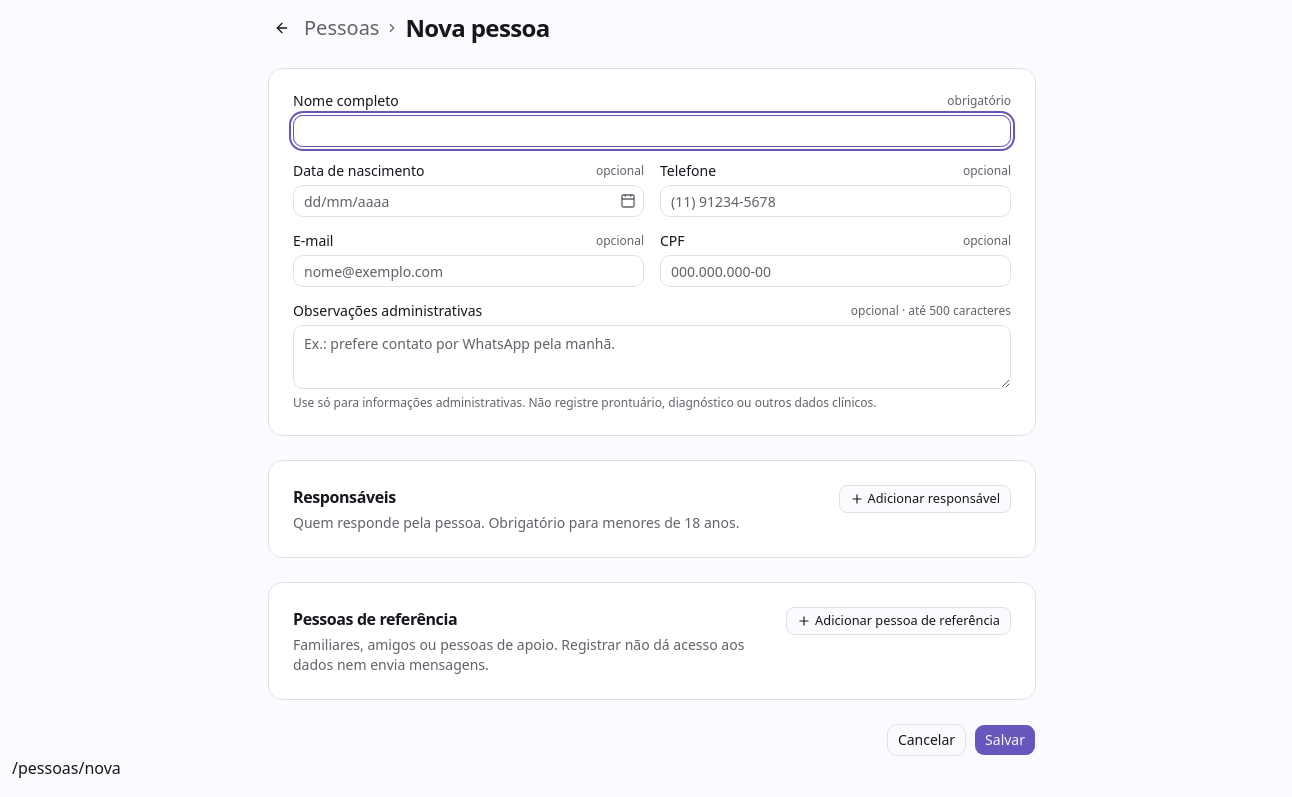
Scenario: ClientFormPage › local validation › keeps what was typed while reporting field errors in pt-BR
Type "Maria Souza" into the field labelled "Nome completo" at (652, 131), box [293,115,1011,147]
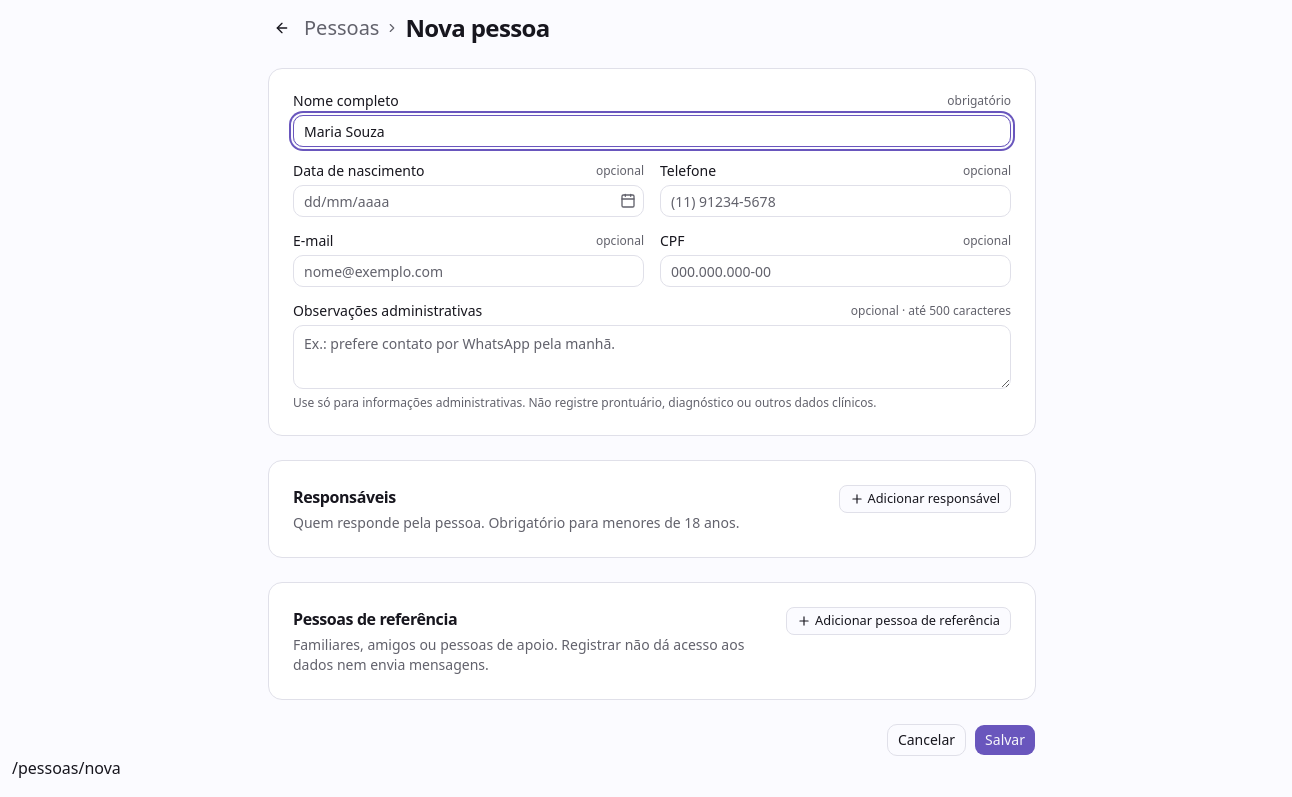
Type "telefone" into the field labelled "Telefone" at (836, 201), box [660,185,1011,217]
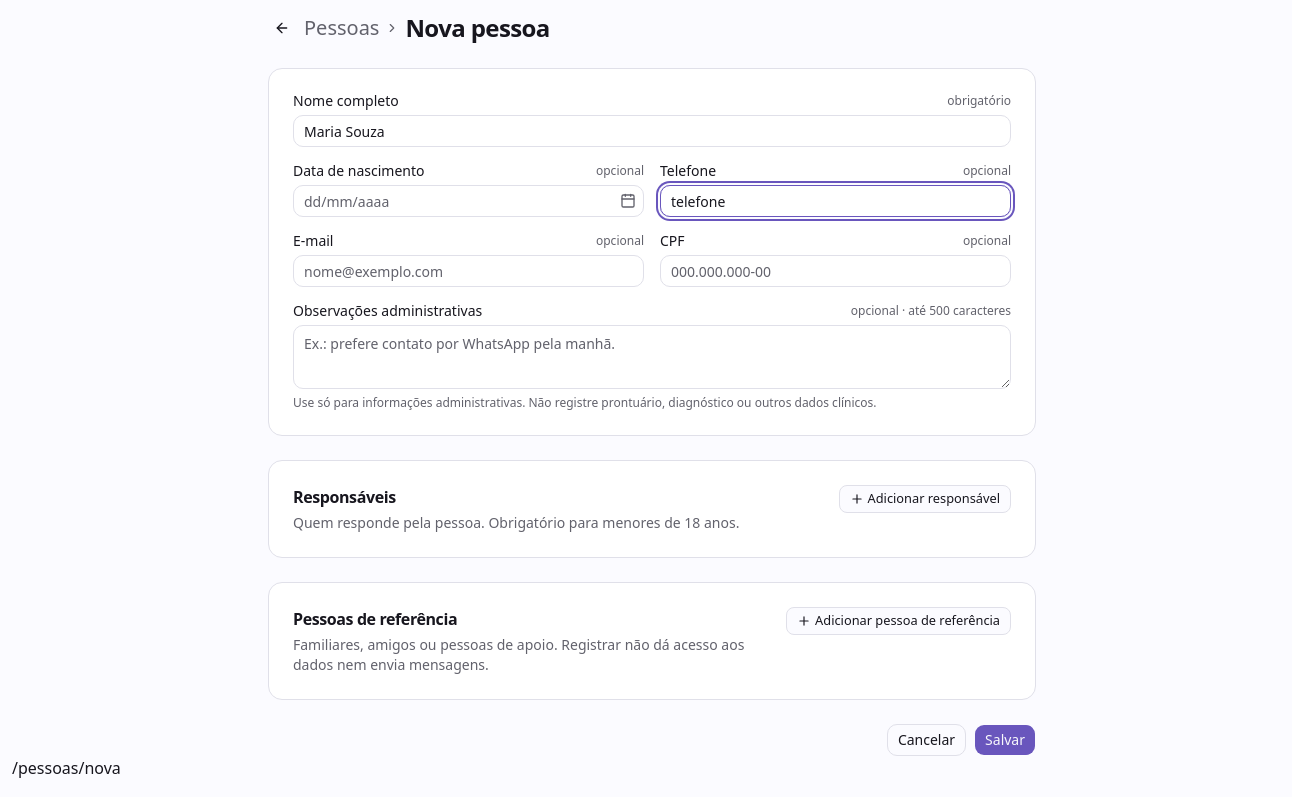
Type "maria@example" into the field labelled "E-mail" at (468, 271), box [293,255,644,287]
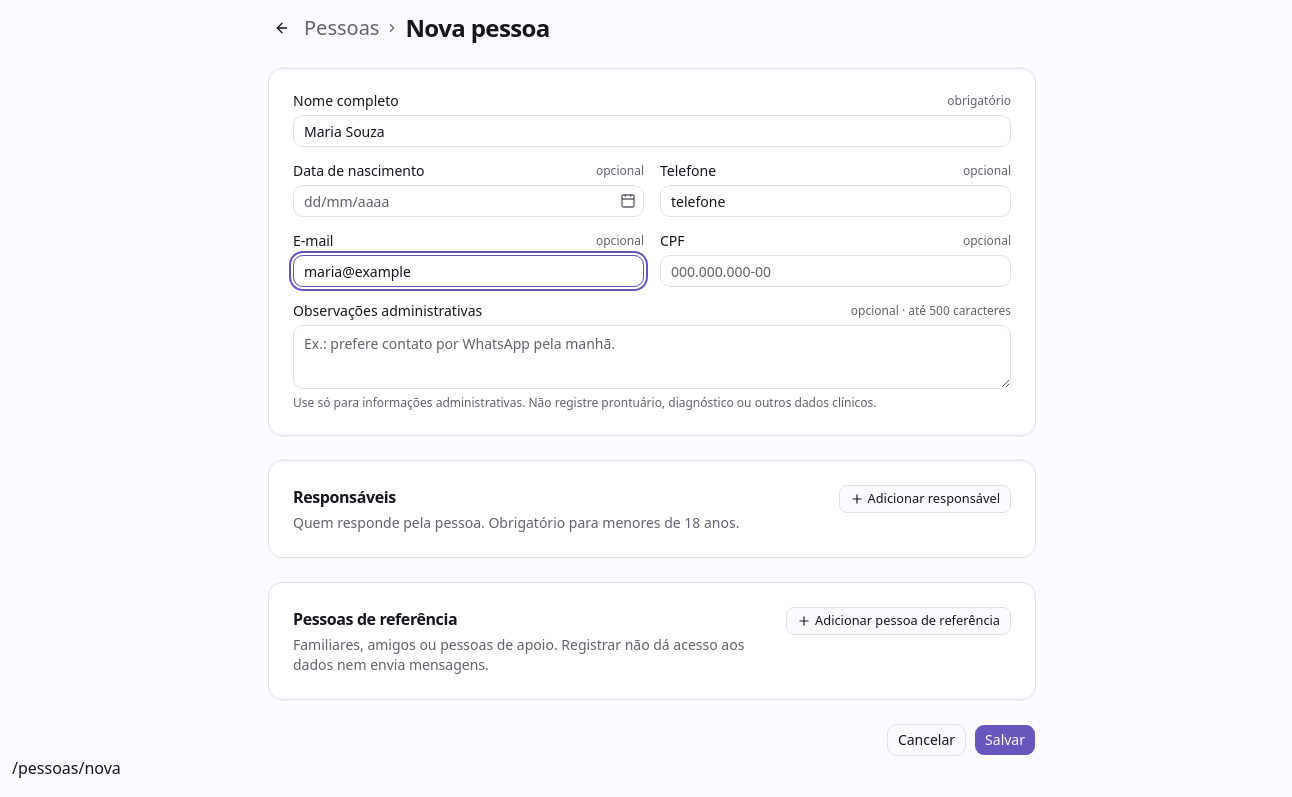
Type "52998224724" into the field labelled "CPF" at (836, 271), box [660,255,1011,287]
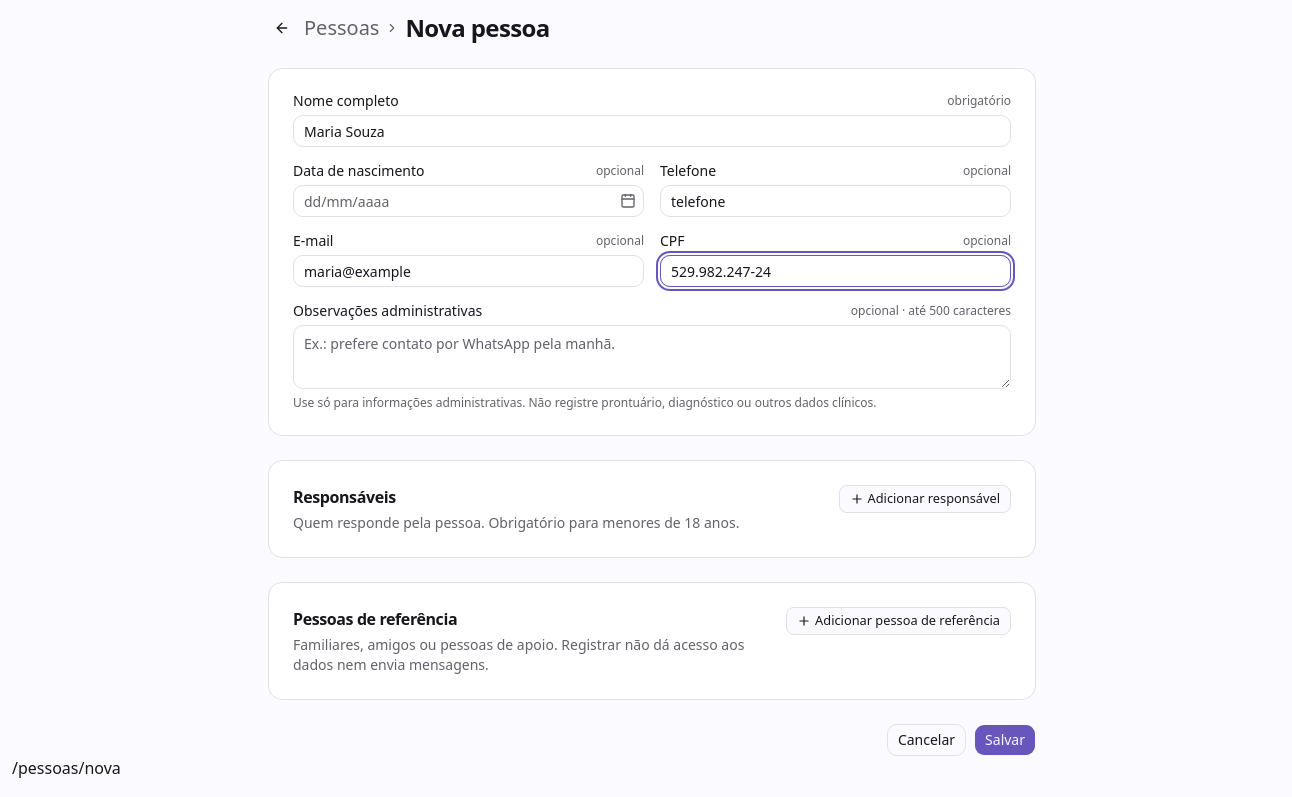
Click the button "Salvar" at (1005, 740), box [974,724,1036,756]
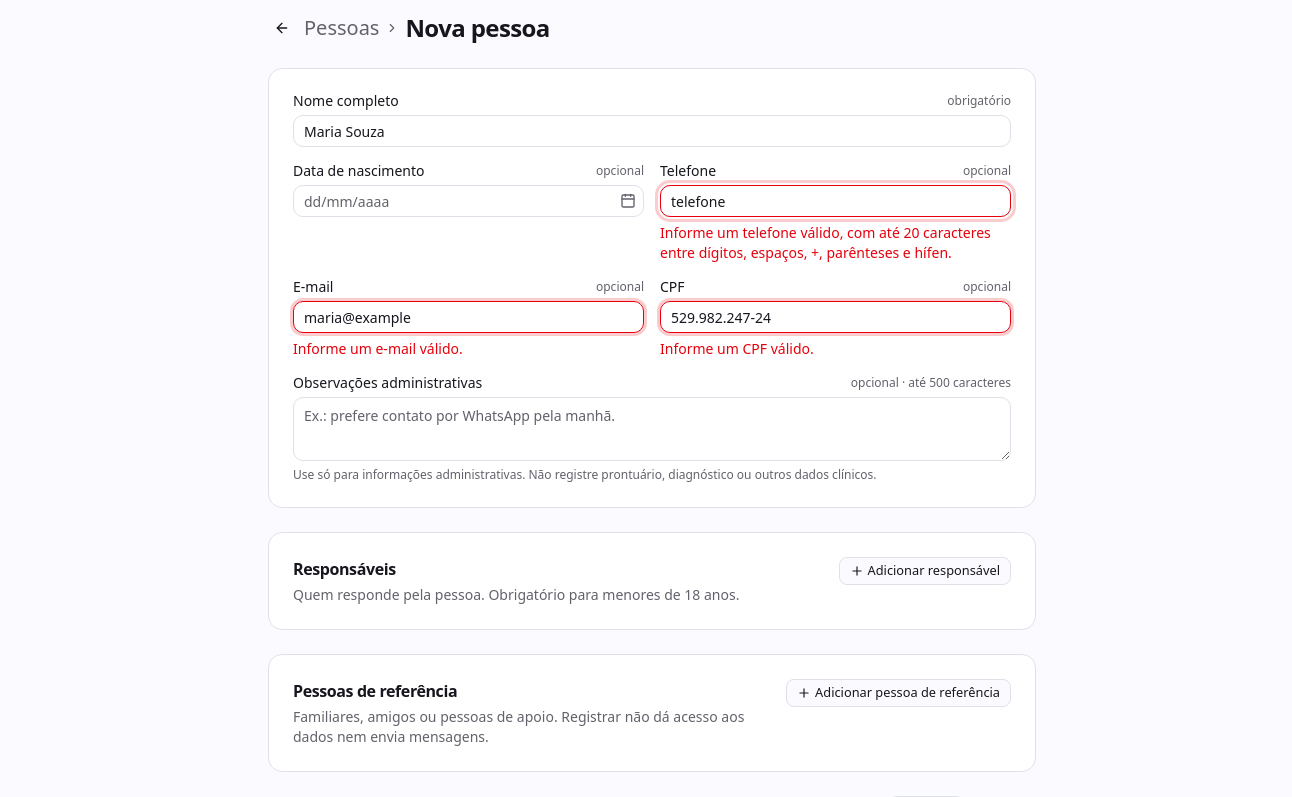
Expected: the text "Informe um e-mail válido." is shown, [293,339,463,358]
Expected: the text "Informe um CPF válido." is shown, [660,339,814,358]
Expected: the text "Informe um telefone válido" is shown, [660,223,991,262]
